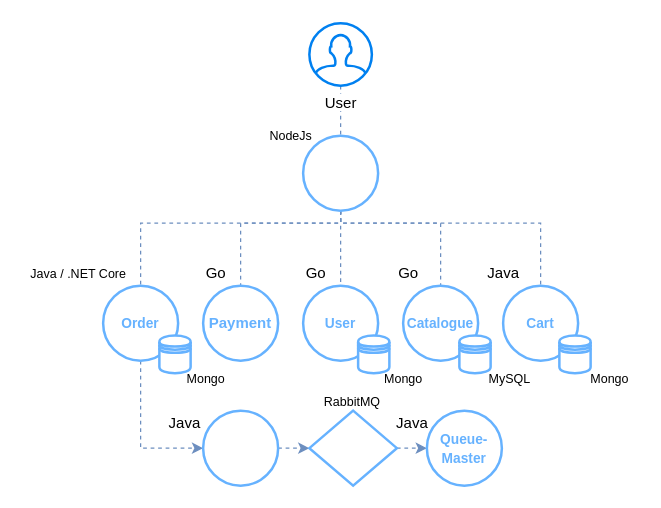
Image size: 661x508. Some labels were removed from this diagram. The centre of each missing label's shape, as x and y in pixels:
"Front-end" belongs at [340,172].
"Qeueue" belongs at [353,447].
"Shipping" belongs at [240,447].
